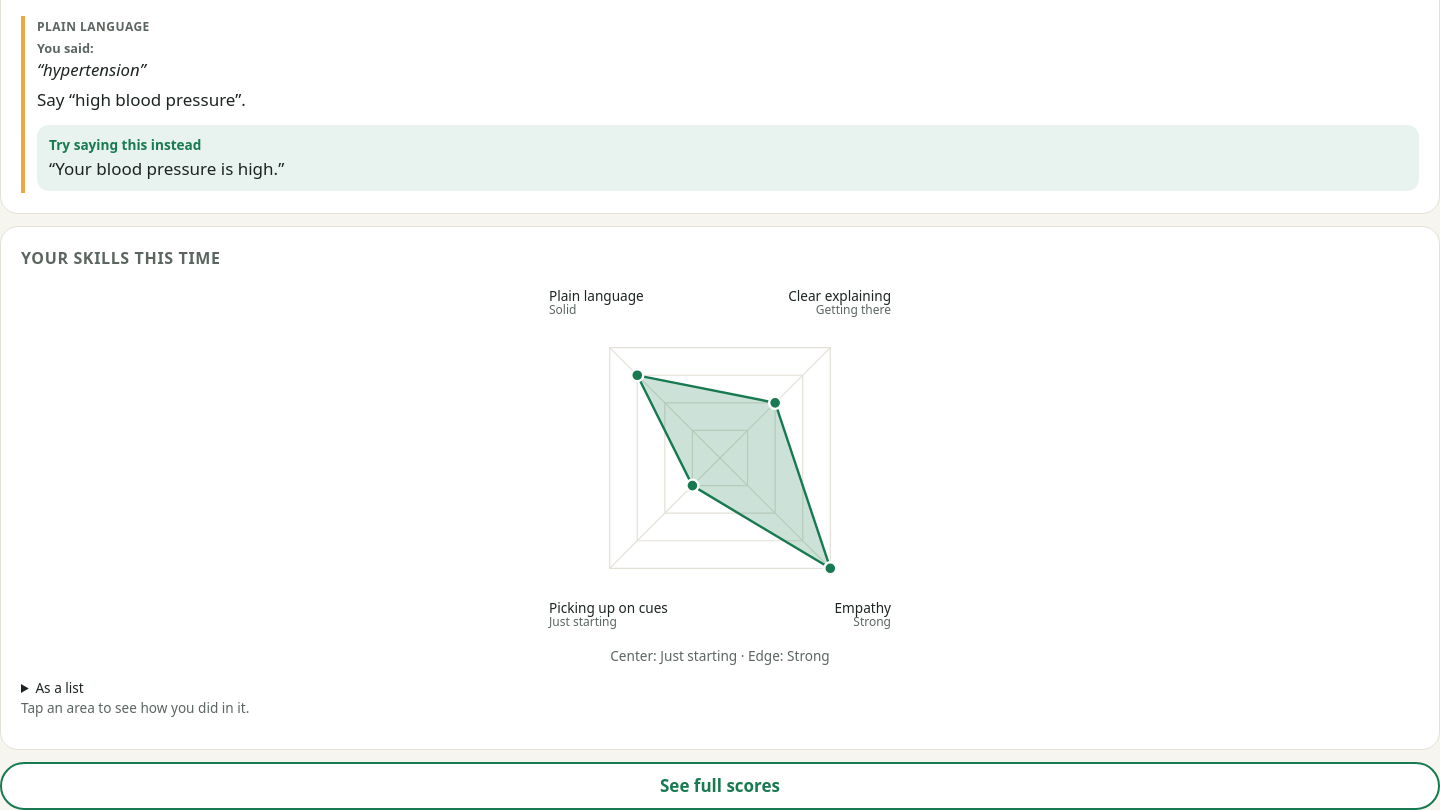
Test: score screen › says when the patient raised a worry himself
This screenshot has width=1440, height=810.
(page scrolled)
What coordinates should you click on to do the following:
click the button "See full scores"
I would click on:
 (720, 786)
Its box is [0, 762, 1439, 809].
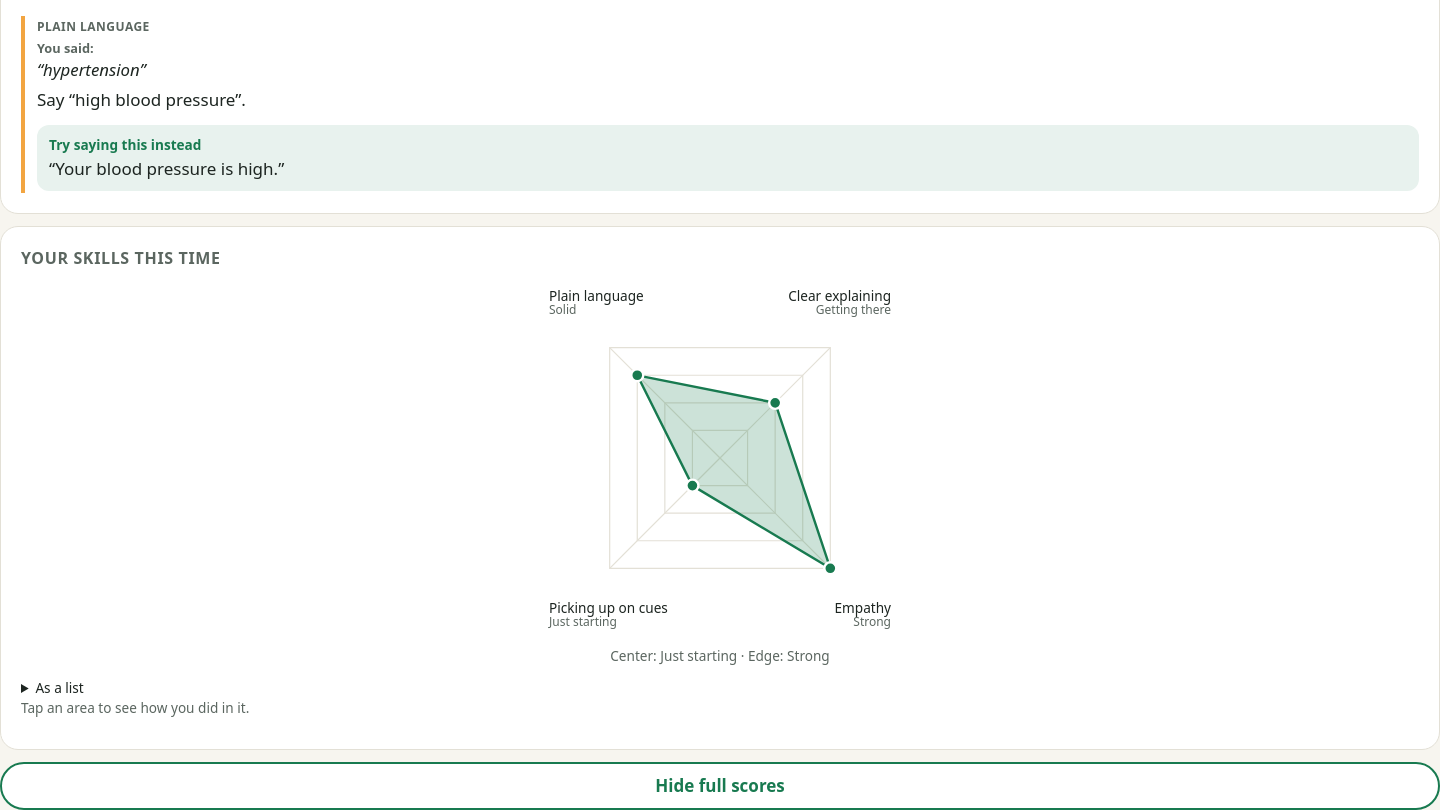
What coordinates should you click on to do the following:
click the button "Picking up on cues Just starting"
I would click on:
 (608, 614)
Its box is [540, 590, 677, 638].
(page scrolled)
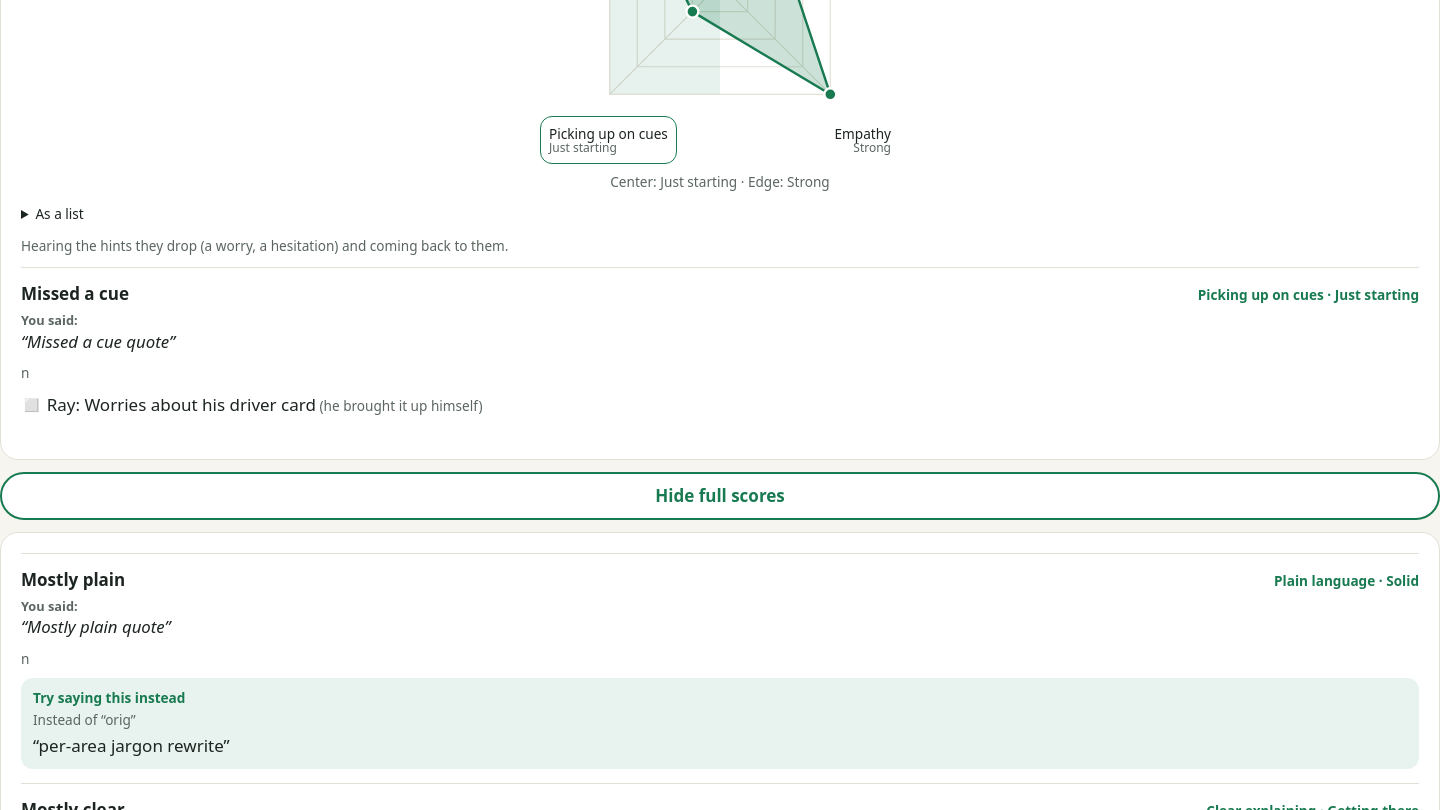
Check: the text "(he brought it up himself)" is shown, box [316, 396, 482, 415]
